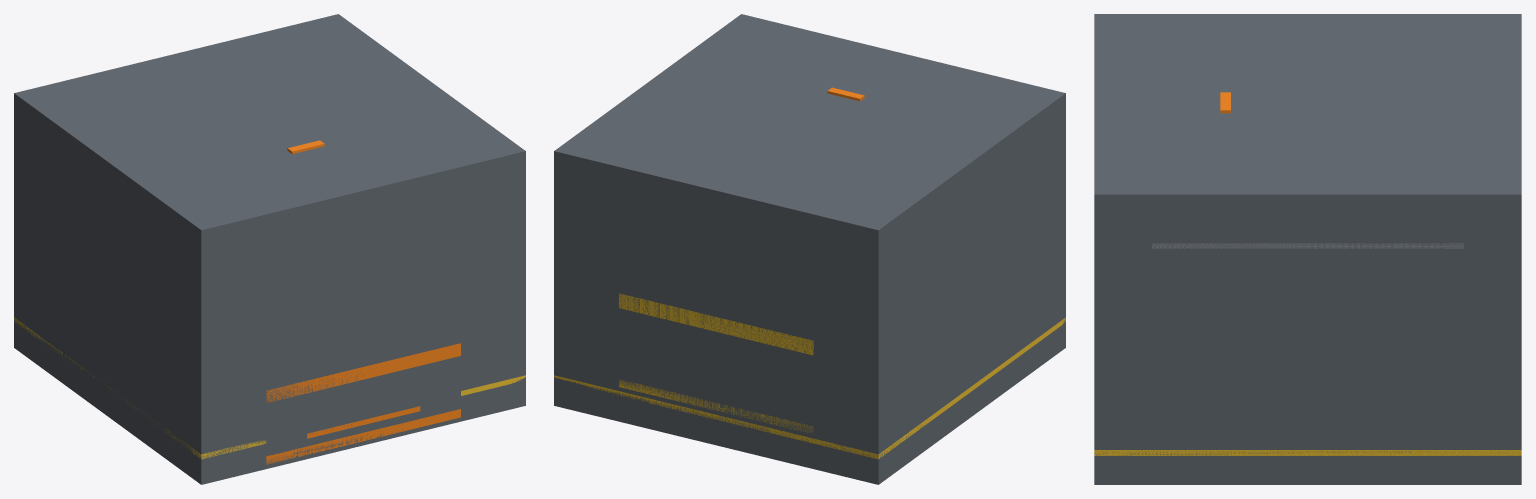
The picture shows the model from 3 angles, left to right: view 1: azimuth 30°, elevation 25°; view 2: azimuth 150°, elevation 25°; view 3: azimuth 270°, elevation 25°; orthographic projection. The views are drawn at different scales.
Parts seen in each view (by area): view 1: col_Box, Box_LOD0; view 2: col_Box, Box_LOD0; view 3: col_Box, Box_LOD0.
Part boxes in pixels (x1,y1,x2,y2): col_Box: (14, 14, 525, 484); Box_LOD0: (14, 26, 525, 484); col_Box: (554, 14, 1065, 484); Box_LOD0: (554, 26, 1065, 484); col_Box: (1094, 14, 1521, 484); Box_LOD0: (1094, 24, 1521, 484).
Size of what is drawn, in the model's own units: 4 by 3.03 by 4.
